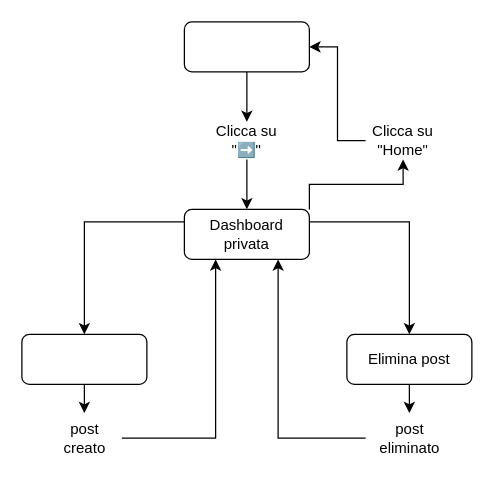
This 494x485 diagram has some shape labels left out. The shapes that lost their labels are listed below. From the top down, each one's centre as x and y in pixels, then its label:
At point (246, 46): "Home Page".
At point (84, 358): "Crea Post".
